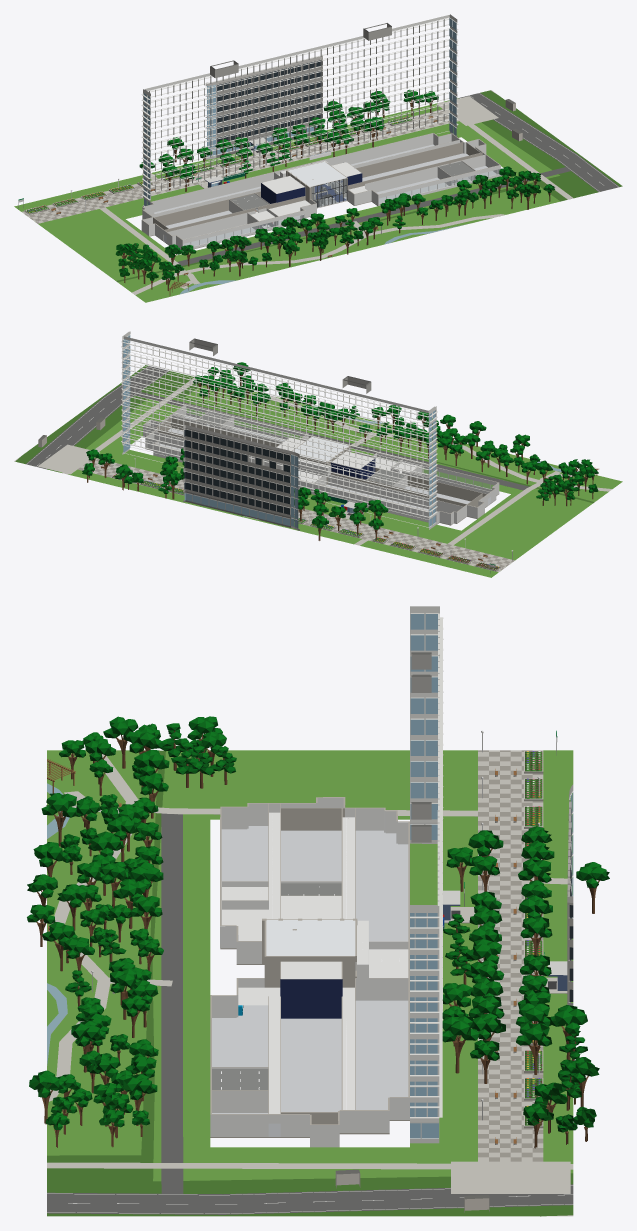
The model's file is research1.fbx.
3 renders of one model, top to bottom at view 1: azimuth 30°, elevation 25°; view 2: azimuth 150°, elevation 25°; view 3: azimuth 270°, elevation 25°, orthographic. The views are drawn at different scales.
Visible parts, largest first — view 1: ext_research1, wall_research1, ext_research1_trees, floor_research1; view 2: ext_research1, wall_research1, ext_research1_trees, floor_research1; view 3: ext_research1, ext_research1_trees, wall_research1, floor_research1.
Boxes of the visible parts, box(x1,y1,x2,y2) form: ext_research1: box(14, 14, 622, 302); wall_research1: box(141, 133, 500, 251); ext_research1_trees: box(115, 89, 554, 290); floor_research1: box(149, 144, 496, 249); ext_research1: box(14, 331, 622, 577); wall_research1: box(143, 403, 499, 524); ext_research1_trees: box(82, 362, 598, 540); floor_research1: box(143, 415, 498, 525); ext_research1: box(47, 606, 573, 1216); ext_research1_trees: box(27, 716, 609, 1148); wall_research1: box(210, 797, 409, 1147); floor_research1: box(210, 826, 409, 1137).
Size of the model in its own units: 203 by 51.84 by 107.
